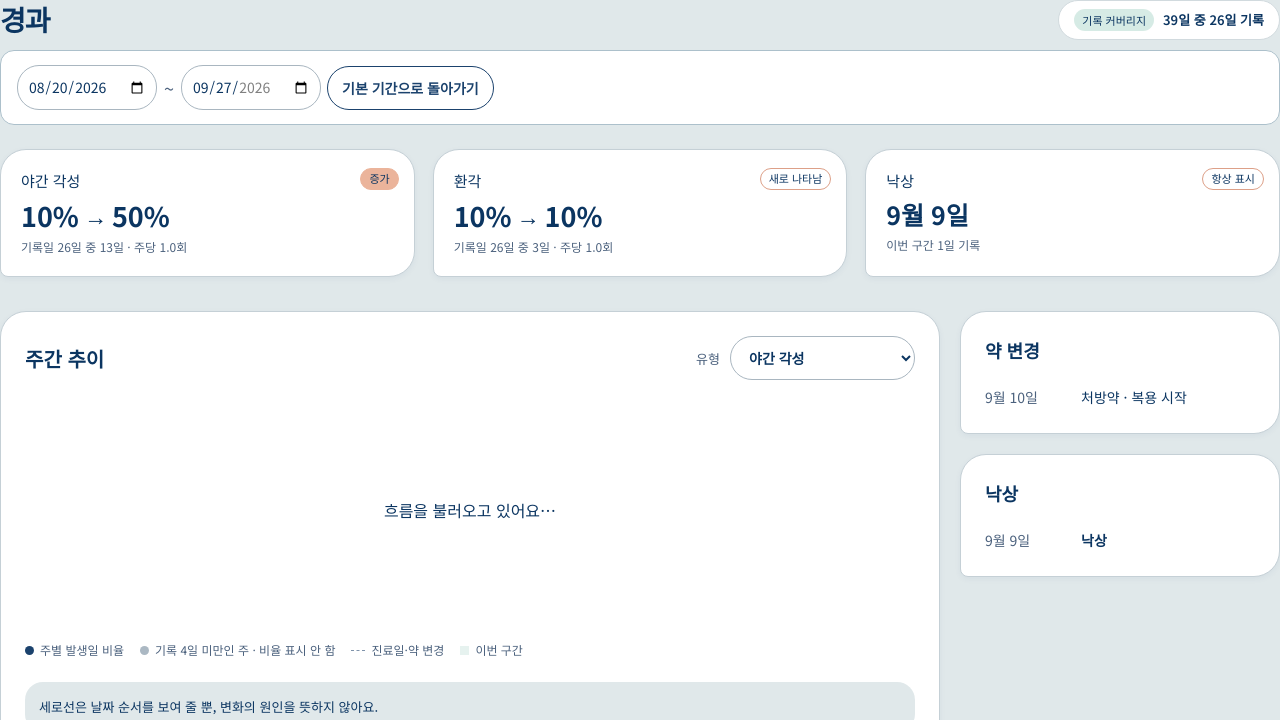
Scenario: 새 기간을 자동 조회하는 동안과 조회 실패 후에는 이전 기간의 기록일 수를 숨긴다
This screenshot has width=1280, height=720.
Check: the element labelled "기록 커버리지" is shown, box [1058,0,1279,40]
Step 1. Type "2026-09-01" into the date field named "시작 날짜" → (87, 88), box [17,65,157,110]
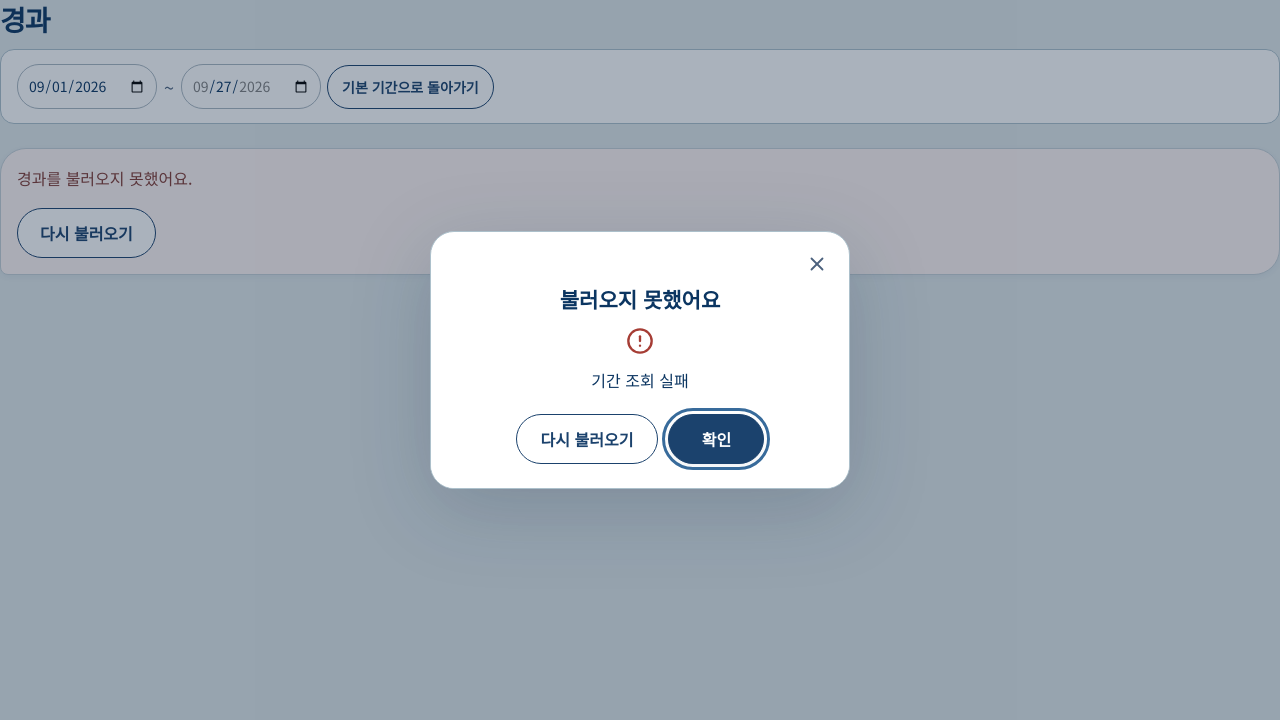
Check: the text labelled "기록 커버리지" is gone
Check: the text "경과를 불러오지 못했어요." is shown, box [17,166,192,190]
